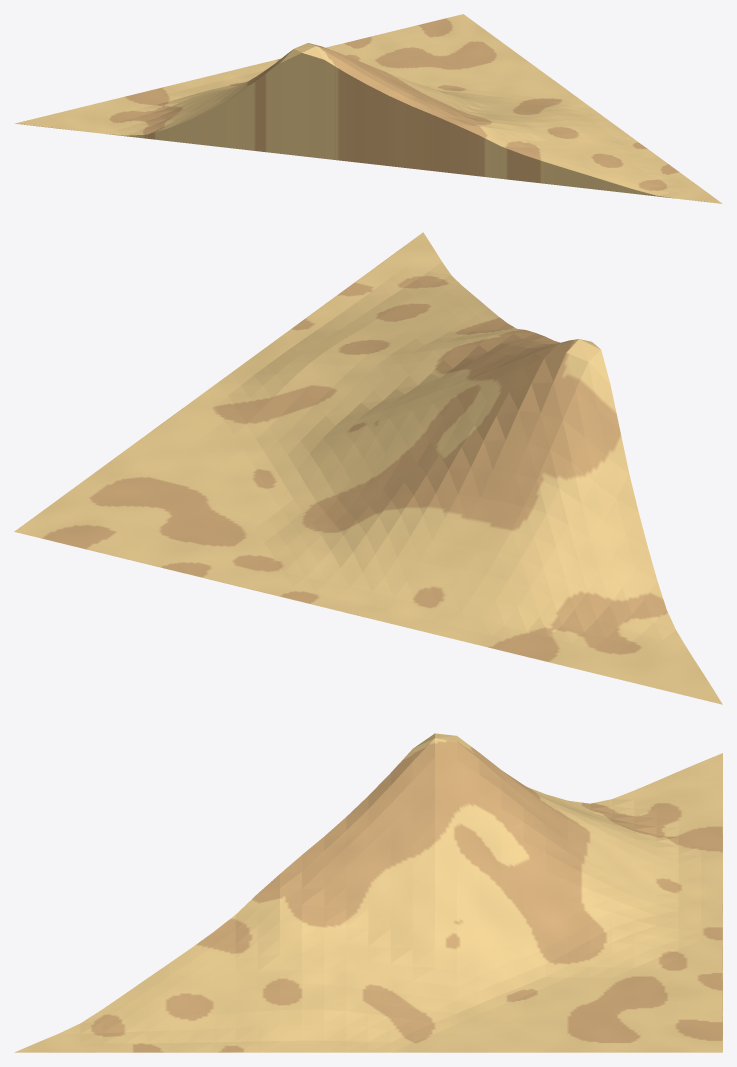
File: Desert_Mountains_03_SE.obj
3 renders of one model, top to bottom at view 1: azimuth 30°, elevation 25°; view 2: azimuth 150°, elevation 25°; view 3: azimuth 270°, elevation 25°, orthographic. The views are drawn at different scales.
Size of the model in its own units: 10 by 2.27 by 10.
Materials: 1 (1 with a texture image).
